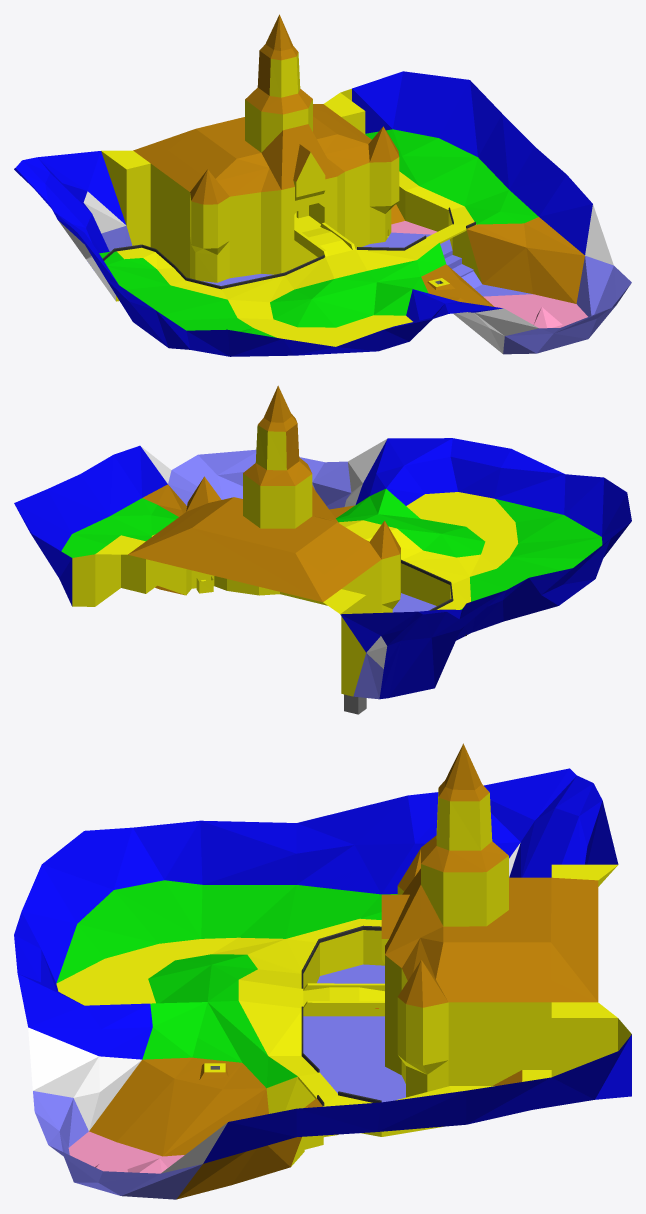
Rendered from castle_grounds_segment7.0x0F3A0.collision.obj.
3 views of the same model, one above another, from view 1: azimuth 30°, elevation 25°; view 2: azimuth 150°, elevation 25°; view 3: azimuth 270°, elevation 25° (orthographic). The views are drawn at different scales.
Visible parts, largest first — view 1: castle_grounds_segment7_0F3A0_normal, castle_grounds_segment7_0F3A0_very_slippery, castle_grounds_segment7_0F3A0_climbable, castle_grounds_segment7_0F3A0_grass, castle_grounds_segment7_0F3A0_water_currents, castle_grounds_segment7_0F3A0_unclimbable, castle_grounds_segment7_0F3A0_0D, castle_grounds_segment7_0F3A0_fence; view 2: castle_grounds_segment7_0F3A0_very_slippery, castle_grounds_segment7_0F3A0_normal, castle_grounds_segment7_0F3A0_climbable, castle_grounds_segment7_0F3A0_grass, castle_grounds_segment7_0F3A0_water_currents, castle_grounds_segment7_0F3A0_unclimbable; view 3: castle_grounds_segment7_0F3A0_very_slippery, castle_grounds_segment7_0F3A0_normal, castle_grounds_segment7_0F3A0_climbable, castle_grounds_segment7_0F3A0_grass, castle_grounds_segment7_0F3A0_water_currents, castle_grounds_segment7_0F3A0_unclimbable, castle_grounds_segment7_0F3A0_0D, castle_grounds_segment7_0F3A0_fence.
Boxes of the visible parts, x1,y1,x2,y2 form: castle_grounds_segment7_0F3A0_normal: (101, 52, 481, 346); castle_grounds_segment7_0F3A0_very_slippery: (14, 71, 592, 356); castle_grounds_segment7_0F3A0_climbable: (133, 14, 584, 306); castle_grounds_segment7_0F3A0_grass: (99, 129, 538, 337); castle_grounds_segment7_0F3A0_water_currents: (101, 225, 631, 354); castle_grounds_segment7_0F3A0_unclimbable: (58, 191, 613, 353); castle_grounds_segment7_0F3A0_0D: (391, 221, 587, 328); castle_grounds_segment7_0F3A0_fence: (102, 207, 475, 289); castle_grounds_segment7_0F3A0_very_slippery: (14, 438, 631, 699); castle_grounds_segment7_0F3A0_normal: (72, 425, 518, 696); castle_grounds_segment7_0F3A0_climbable: (128, 385, 400, 602); castle_grounds_segment7_0F3A0_grass: (61, 488, 602, 609); castle_grounds_segment7_0F3A0_water_currents: (168, 449, 436, 699); castle_grounds_segment7_0F3A0_unclimbable: (141, 439, 387, 668); castle_grounds_segment7_0F3A0_very_slippery: (14, 768, 631, 1163); castle_grounds_segment7_0F3A0_normal: (56, 788, 631, 1166); castle_grounds_segment7_0F3A0_climbable: (89, 743, 598, 1199); castle_grounds_segment7_0F3A0_grass: (56, 880, 397, 1088); castle_grounds_segment7_0F3A0_water_currents: (33, 964, 405, 1199); castle_grounds_segment7_0F3A0_unclimbable: (28, 843, 520, 1173); castle_grounds_segment7_0F3A0_0D: (68, 1131, 184, 1173); castle_grounds_segment7_0F3A0_fence: (301, 925, 381, 1105).
Size of the model in its own units: 16 by 9.23 by 14.55.
